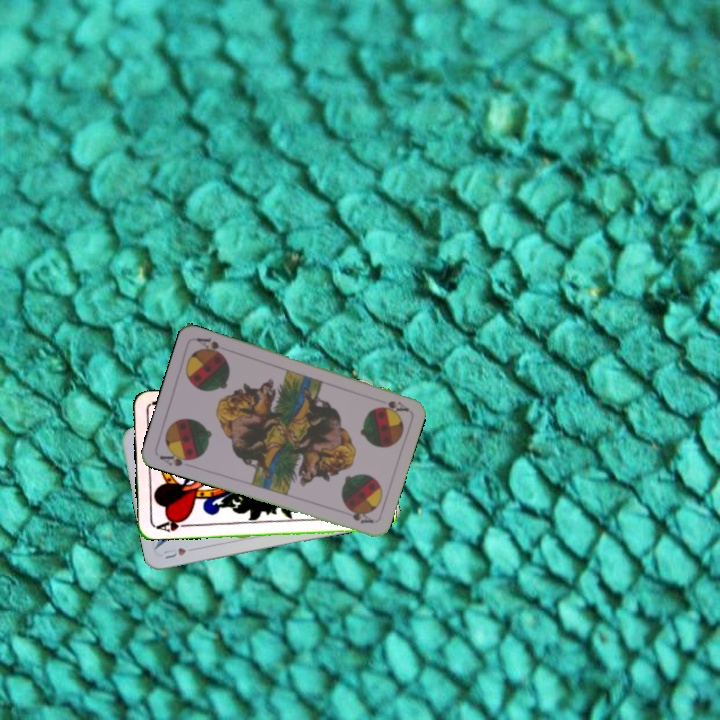HA: (151, 514, 192, 534)
HU: (159, 544, 189, 561)
SA: (155, 447, 197, 469), (383, 396, 411, 414)
